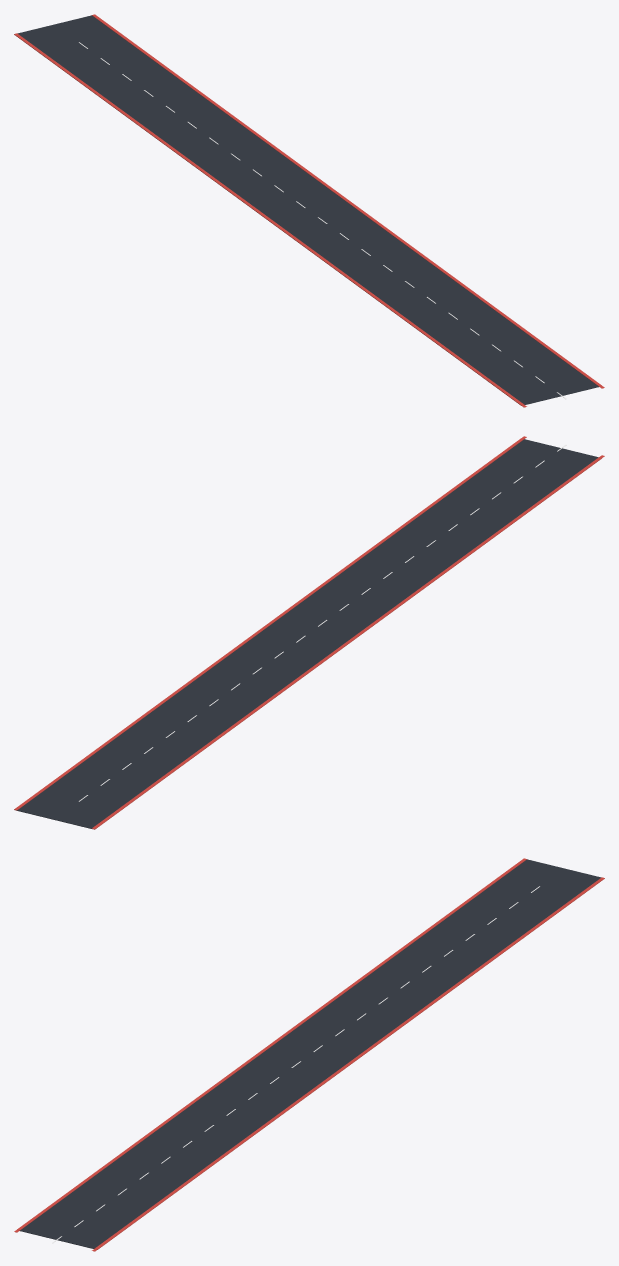
File: Motor_Track.fbx
3 views of the same model, one above another, from view 1: azimuth 30°, elevation 25°; view 2: azimuth 150°, elevation 25°; view 3: azimuth 330°, elevation 25° (orthographic).
Visible parts, largest first — view 1: Track; view 2: Track; view 3: Track.
Part boxes in pixels (x1,y1,x2,y2): Track: [14, 14, 604, 407]; Track: [14, 436, 604, 829]; Track: [14, 858, 604, 1251].
Bounding box in the file's own units: 12.9 × 0.1 × 141.
